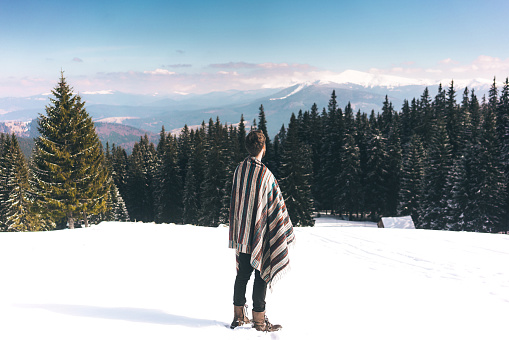em pe: (218, 116, 289, 340)
